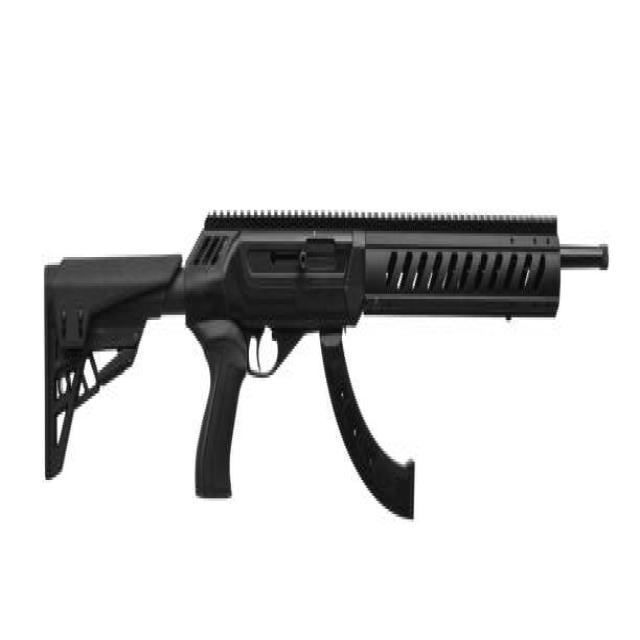rifle: (36, 196, 613, 544)
